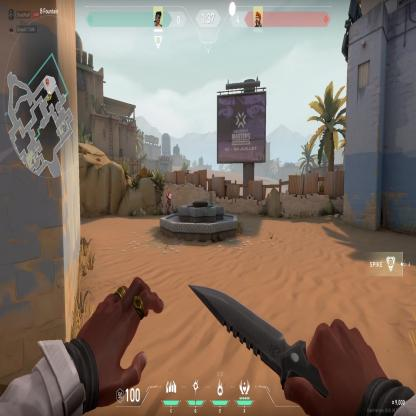enemy: (165, 188, 172, 217)
